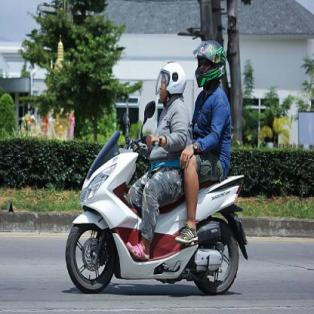Motocicleta: (65, 121, 247, 295)
